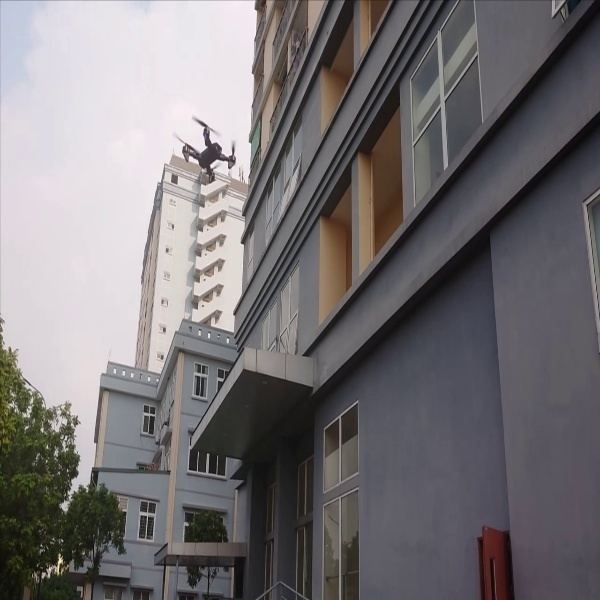drone: (171, 108, 243, 185)
